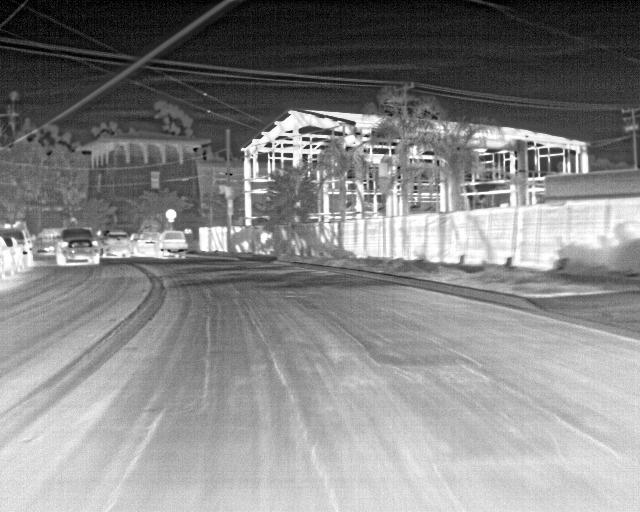car: (53, 226, 99, 264), (0, 230, 33, 273), (157, 230, 188, 259), (104, 232, 134, 259), (133, 238, 160, 256), (42, 243, 54, 253)
